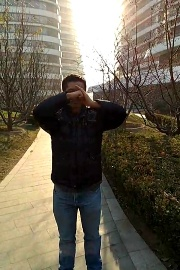hand: (72, 84, 88, 98)
